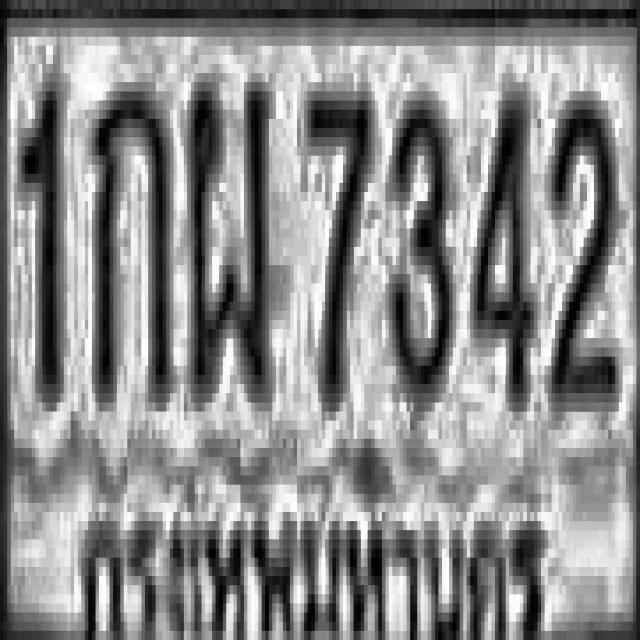license-plate: (11, 9, 630, 640)
